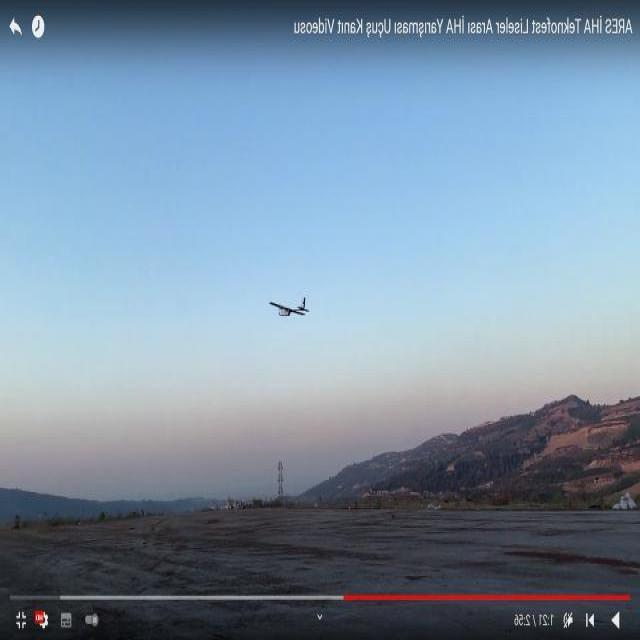UAV: (254, 292, 308, 346)
